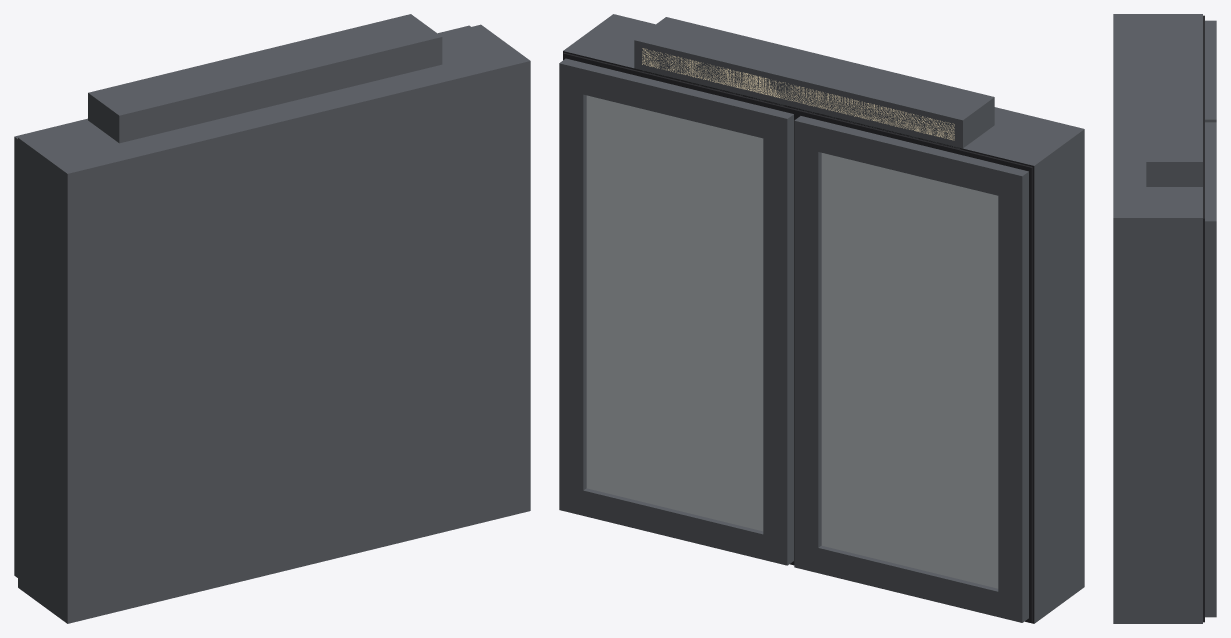
File: FN_Cabinet_Bathroom.glb
The picture shows the model from 3 angles, left to right: view 1: azimuth 30°, elevation 25°; view 2: azimuth 150°, elevation 25°; view 3: azimuth 270°, elevation 25°; orthographic projection. The views are drawn at different scales.
Visible parts, largest first — view 1: FN_Cabinet_Bathroom; view 2: FN_Cabinet_Bathroom; view 3: FN_Cabinet_Bathroom.
Boxes of the visible parts, box(x1,y1,x2,y2) form: FN_Cabinet_Bathroom: box(14, 14, 530, 623); FN_Cabinet_Bathroom: box(559, 14, 1084, 623); FN_Cabinet_Bathroom: box(1113, 14, 1216, 623).
Bounding box in the file's own units: 0.7 × 0.69 × 0.15.
2 materials, 2 textured.
